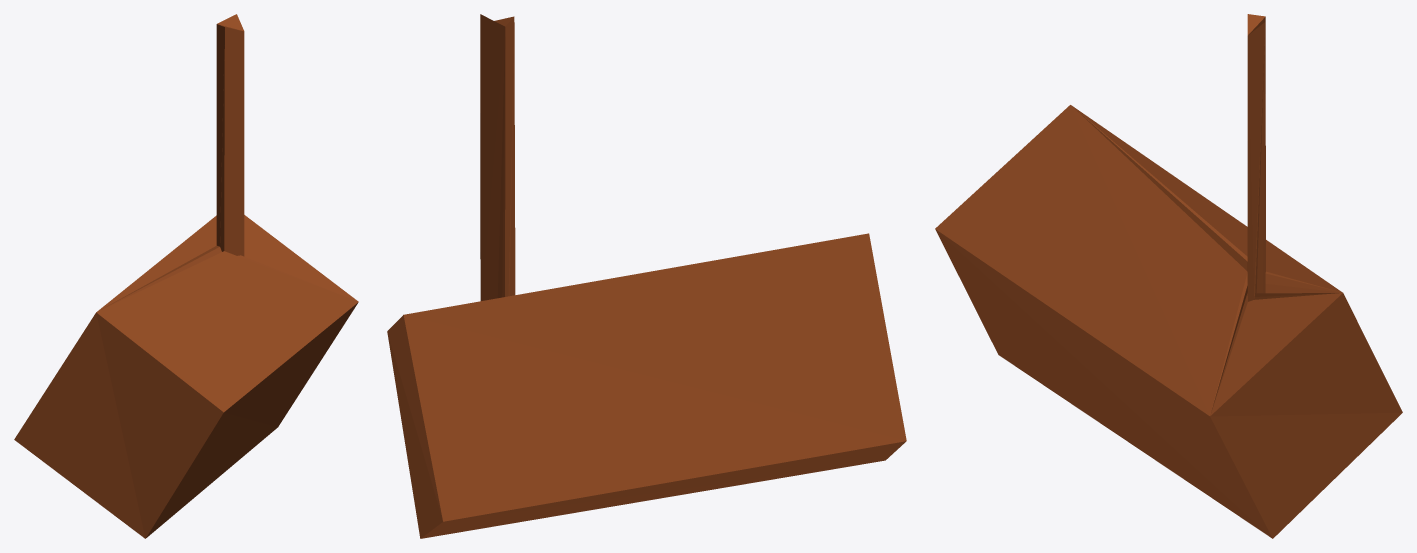
The picture shows the model from 3 angles, left to right: view 1: azimuth 30°, elevation 25°; view 2: azimuth 150°, elevation 25°; view 3: azimuth 270°, elevation 25°; orthographic projection. The views are drawn at different scales.
Parts seen in each view (by area): view 1: 198_Cube.822; view 2: 198_Cube.822; view 3: 198_Cube.822.
Boxes of the visible parts, left/top/right/bottom form: 198_Cube.822: left=14, top=14, right=358, bottom=538; 198_Cube.822: left=387, top=14, right=906, bottom=538; 198_Cube.822: left=935, top=14, right=1402, bottom=538.
Bounding box in the file's own units: 13.84 × 14.87 × 12.82.
